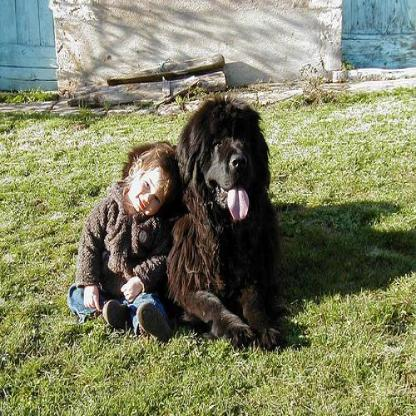Newfoundland: (122, 91, 282, 352)
